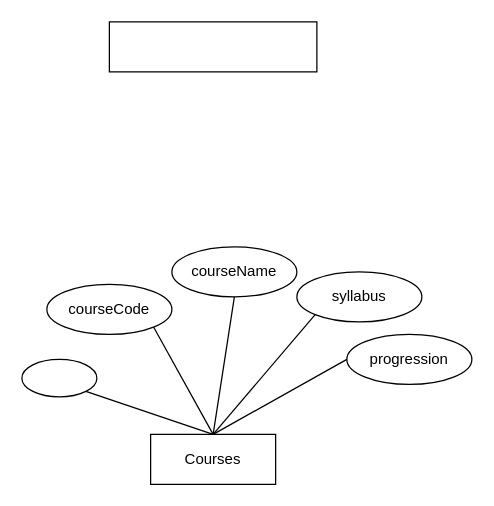
Some shapes in this 494 by 506 pixel diagram are drawn without their labels. Here are the shapes that lost their labels. From the top down, the centre of each, then its label:
At (212,46): "Databas: DT207G_Moment1".
At (59,377): "ID".
